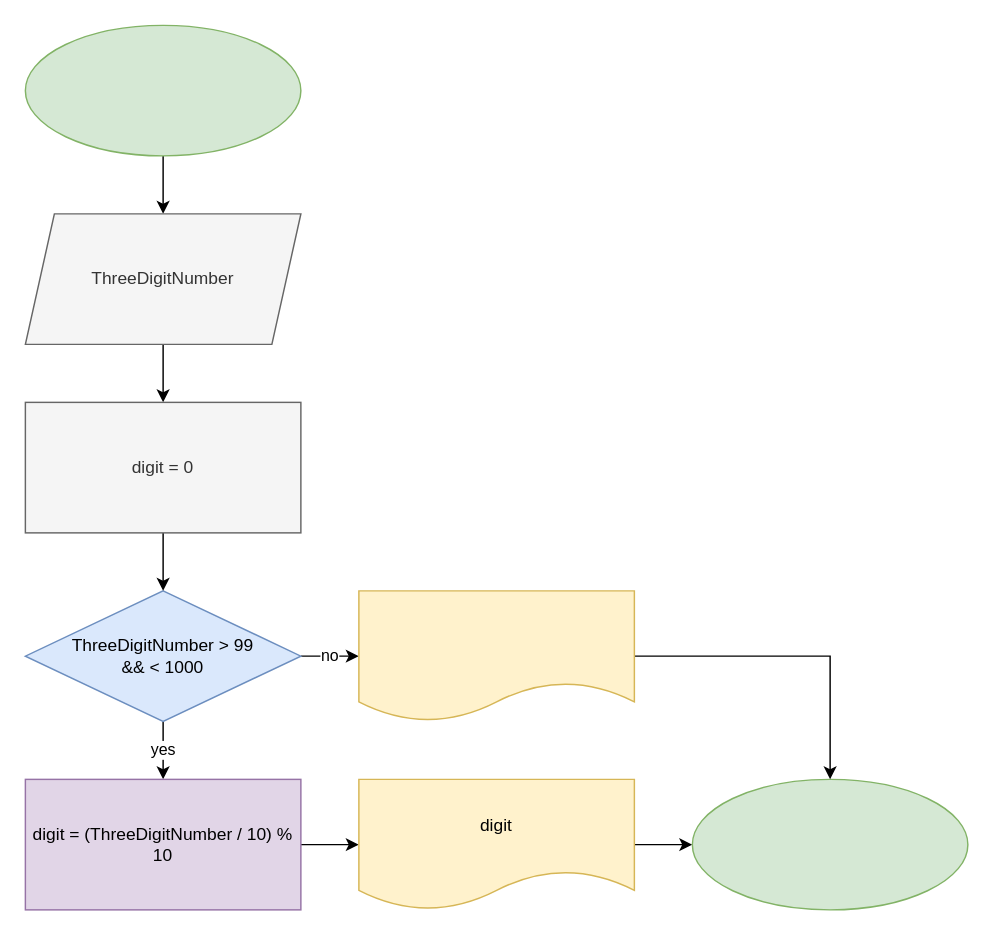
This 993x935 diagram has some shape labels left out. Here are the shapes that lost their labels. From the top down, the centre of each, then its label:
At point (162, 90): "start".
At point (495, 655): "Number entered incorrectly".
At point (829, 844): "end".
